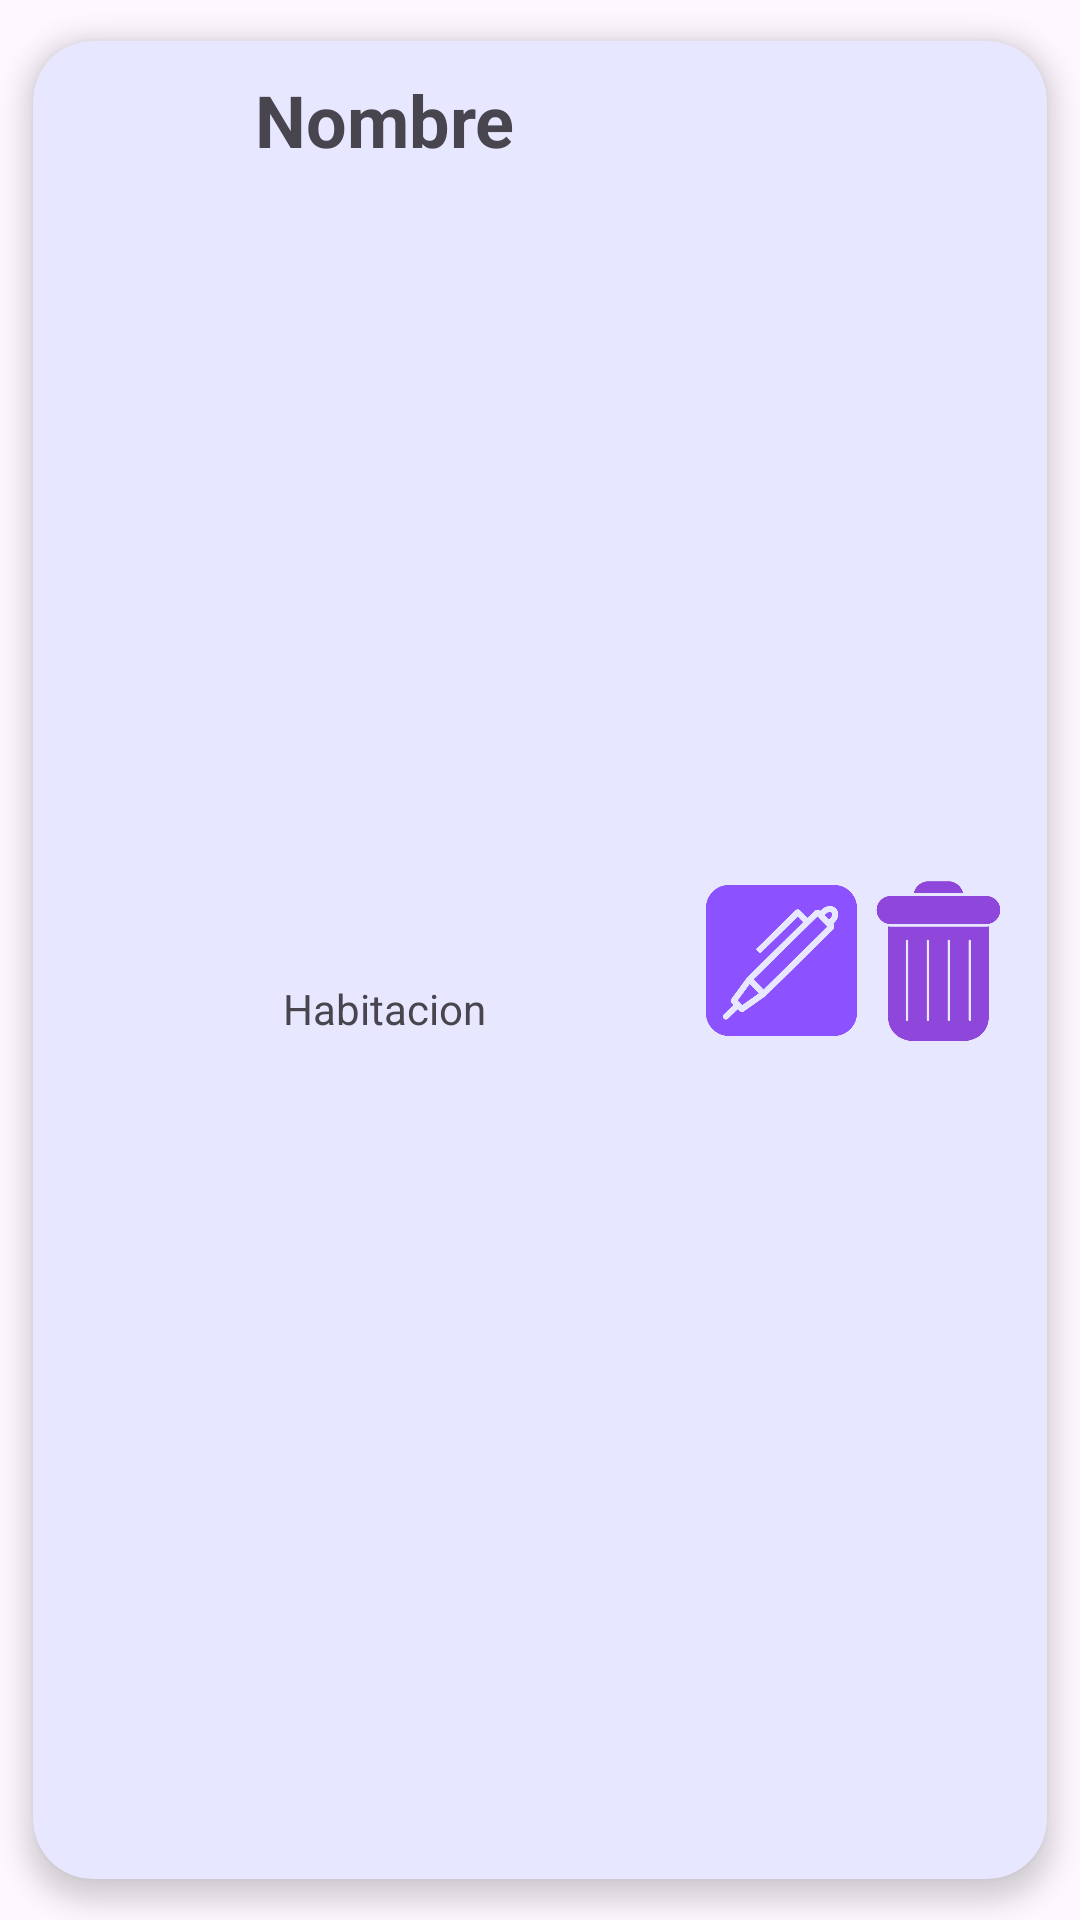

Named icons in this screenshot (1080w x 1920h) and their centers, [x,y]:
delete: [938,961]
edit: [781,960]
